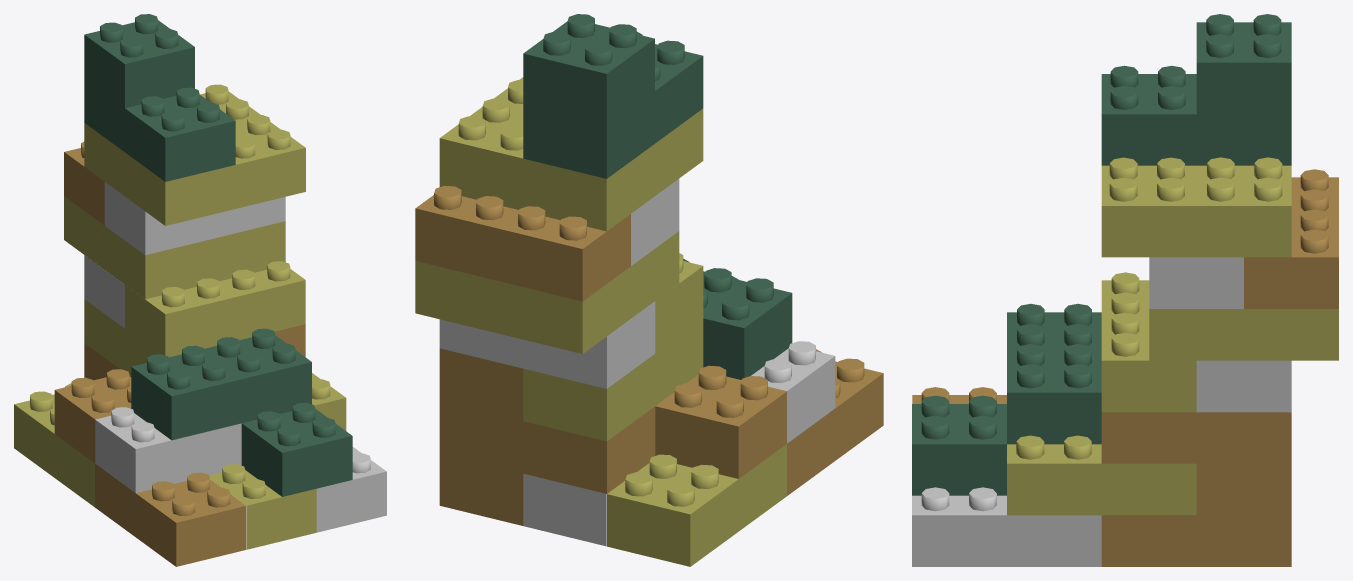
Rendered from bloque_lego_2.fbx.
The picture shows the model from 3 angles, left to right: view 1: azimuth 30°, elevation 25°; view 2: azimuth 150°, elevation 25°; view 3: azimuth 270°, elevation 25°; orthographic projection. The views are drawn at different scales.
Parts seen in each view (by area): view 1: piezaModelo.013, piezaModelo.015, piezaModelo.009, piezaModelo.018, piezaModelo.001, piezaModelo.022, piezaModelo.017, piezaModeloPeq.001, piezaModeloPeq.002, piezaModelo.020, piezaModelo.021, piezaModelo.011 (+23 smaller); view 2: piezaModelo.019, piezaModelo.011, piezaModelo.006, piezaModelo.018, piezaModelo.017, piezaModelo.008, piezaModelo.022, piezaModeloPeq.002, piezaModelo.002, piezaModelo.014, piezaModelo.013, piezaModelo.009 (+17 smaller); view 3: piezaModelo.021, piezaModelo.018, piezaModelo.005, piezaModelo.003, piezaModelo.004, piezaModelo.007, piezaModelo.016, piezaModelo.013, piezaModeloPeq.002, piezaModelo.015, piezaModelo.019, piezaModeloPeq.001 (+14 smaller).
Part boxes in pixels (x1,y1,x2,y2): piezaModelo.013: (131,335,311,440); piezaModelo.015: (125,269,305,357); piezaModelo.009: (95,464,246,566); piezaModelo.018: (84,79,235,181); piezaModelo.001: (95,413,241,492); piezaModelo.022: (84,123,235,225); piezaModelo.017: (64,196,215,299); piezaModeloPeq.001: (241,409,352,496); piezaModeloPeq.002: (84,20,194,107); piezaModelo.020: (104,182,285,255); piezaModelo.021: (200,91,305,208); piezaModelo.011: (14,394,94,507); piezaModelo.019: (415,195,630,301); piezaModelo.011: (607,444,786,566); piezaModelo.006: (439,401,655,493); piezaModelo.018: (523,44,703,178); piezaModelo.017: (499,231,679,353); piezaModelo.008: (523,319,703,441); piezaModelo.022: (523,108,703,231); piezaModeloPeq.002: (523,21,654,126); piezaModelo.002: (655,374,786,478); piezaModelo.014: (439,301,655,388); piezaModelo.013: (703,271,792,379); piezaModelo.009: (787,361,883,495); piezaModelo.021: (1101,165,1291,257); piezaModelo.018: (1101,74,1291,165); piezaModelo.005: (1007,444,1196,515); piezaModelo.003: (912,495,1101,566); piezaModelo.004: (1101,515,1291,566); piezaModelo.007: (1101,412,1291,463); piezaModelo.016: (1149,309,1338,360); piezaModelo.013: (1007,312,1101,444); piezaModeloPeq.002: (1196,22,1291,114); piezaModelo.015: (1101,280,1196,412); piezaModelo.019: (1244,177,1338,308); piezaModeloPeq.001: (912,404,1006,495).
Size of the model in its own units: 338 by 225 by 416.
